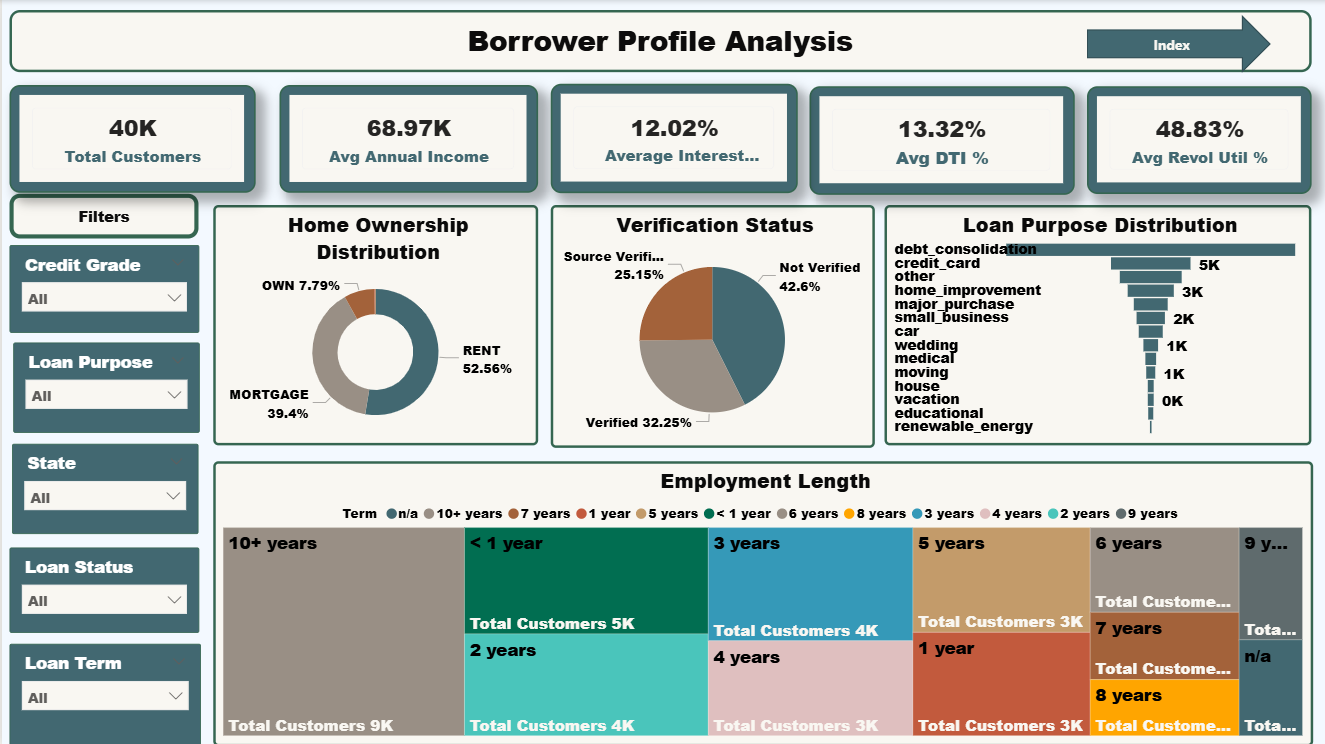

The page's visual inventory and layout, read from the dashboard file:
{"tool":"powerbi","page":{"name":"Customer Insights","canvas":[1280,720],"ordinal":4},"visuals":[{"type":"donutChart","title":"Home Ownership Distribution","fields":{"Category":["bank finance_master.home_ownership"],"Y":["bank finance_master.Total Customers"]},"box":[203.4,198.4,313.8,231.9],"z":0},{"type":"slicer","fields":{"Values":["bank finance_master.grade"]},"box":[7.2,236.5,183.4,84.5],"z":1000},{"type":"slicer","fields":{"Values":["bank finance_master.loan_status"]},"box":[7.2,528.4,183.4,82],"z":2000},{"type":"slicer","fields":{"Values":["bank finance_master.purpose"]},"box":[10.9,330.6,179.8,86.9],"z":3000},{"type":"slicer","fields":{"Values":["bank finance_master.term"]},"box":[7.2,621.3,184.6,98.9],"z":4000},{"type":"slicer","fields":{"Values":["bank finance_master.addr_state"]},"box":[9.7,428.3,179.8,86.9],"z":5000},{"type":"textbox","box":[7.2,9.7,1257.1,60.3],"z":6000},{"type":"textbox","box":[7.2,187,182.2,43.4],"z":7000},{"type":"cardVisual","fields":{"Data":["bank finance_master.Total Customers"]},"box":[7.6,82.1,237.6,104.2],"z":8000},{"type":"treemap","title":"Employment Length","fields":{"Group":["bank finance_master.emp_length"],"Values":["bank finance_master.Default Rate","bank finance_master.Total Customers"]},"box":[203.4,445.3,1061.7,275.3],"z":9000},{"type":"cardVisual","fields":{"Data":["bank finance_master.Avg Income"]},"box":[267.9,81.9,249.3,104.2],"z":10000},{"type":"funnel","title":"Loan Purpose Distribution","fields":{"Category":["bank finance_master.purpose"],"Y":["bank finance_master.Total Customers"]},"box":[852.1,198.4,411.8,231.9],"z":11000},{"type":"cardVisual","fields":{"Data":["bank finance_master.Avg DTI %"]},"box":[779.4,83.2,255.8,105],"z":12000},{"type":"pieChart","title":"Verification Status","fields":{"Category":["bank finance_master.verification_status"],"Y":["bank finance_master.Total Customers"]},"box":[529.6,198.4,312.6,234.4],"z":13000},{"type":"cardVisual","fields":{"Data":["bank finance_master.Avg Revol Util %"]},"box":[1047.2,83.2,217.2,103.8],"z":14000},{"type":"cardVisual","fields":{"Data":["bank finance_master.Average Interest Rate"]},"box":[529.6,80.6,238.1,105.4],"z":15000},{"type":"shape","box":[1046.8,14.9,177.4,55.8],"z":16000}]}

Visuals, with their boxes in screenshot pixels (x1, y1, x2, y2), scaled from the page's 1280x720 canvas onto the 1325x744 screenshot:
"Home Ownership Distribution" donutChart: rect(211, 205, 535, 445)
slicer - bank finance_master.grade: rect(7, 244, 197, 332)
slicer - bank finance_master.loan_status: rect(7, 546, 197, 631)
slicer - bank finance_master.purpose: rect(11, 342, 197, 431)
slicer - bank finance_master.term: rect(7, 642, 199, 743)
slicer - bank finance_master.addr_state: rect(10, 443, 196, 532)
textbox: rect(7, 10, 1309, 72)
textbox: rect(7, 193, 196, 238)
cardVisual - bank finance_master.Total Customers: rect(8, 85, 254, 193)
"Employment Length" treemap: rect(211, 460, 1310, 743)
cardVisual - bank finance_master.Avg Income: rect(277, 85, 535, 192)
"Loan Purpose Distribution" funnel: rect(882, 205, 1308, 445)
cardVisual - bank finance_master.Avg DTI %: rect(807, 86, 1072, 194)
"Verification Status" pieChart: rect(548, 205, 872, 447)
cardVisual - bank finance_master.Avg Revol Util %: rect(1084, 86, 1309, 193)
cardVisual - bank finance_master.Average Interest Rate: rect(548, 83, 795, 192)
shape: rect(1084, 15, 1267, 73)
